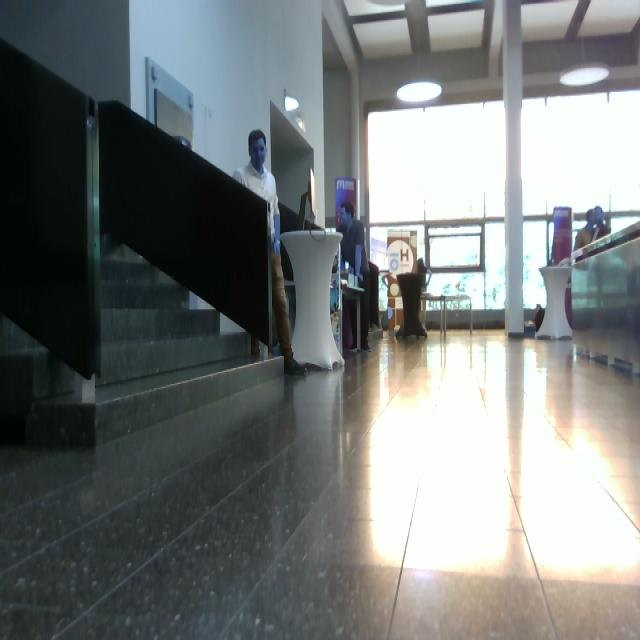light bulb: (560, 64, 610, 88), (397, 81, 442, 104), (366, 1, 412, 12), (285, 96, 299, 112)
person: (232, 129, 308, 376), (340, 201, 372, 353)
pillar: (502, 1, 525, 337)
table: (279, 227, 349, 375)
tiled floor: (2, 325, 639, 638)
window: (367, 88, 640, 326)
